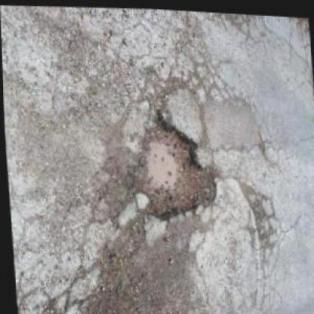Hueco: (121, 105, 222, 226)
